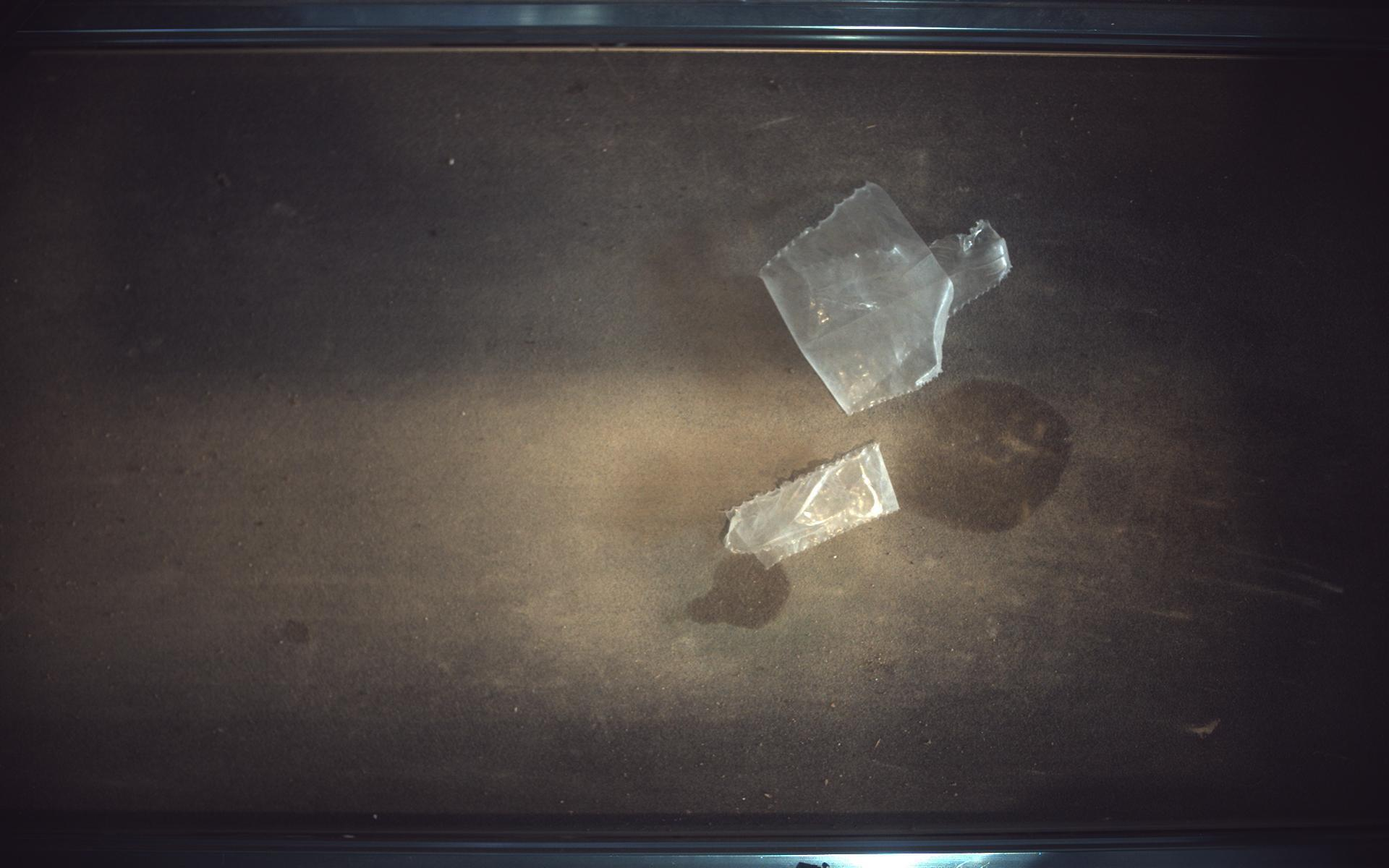general_w: (761, 182, 1014, 414), (726, 443, 901, 569)
